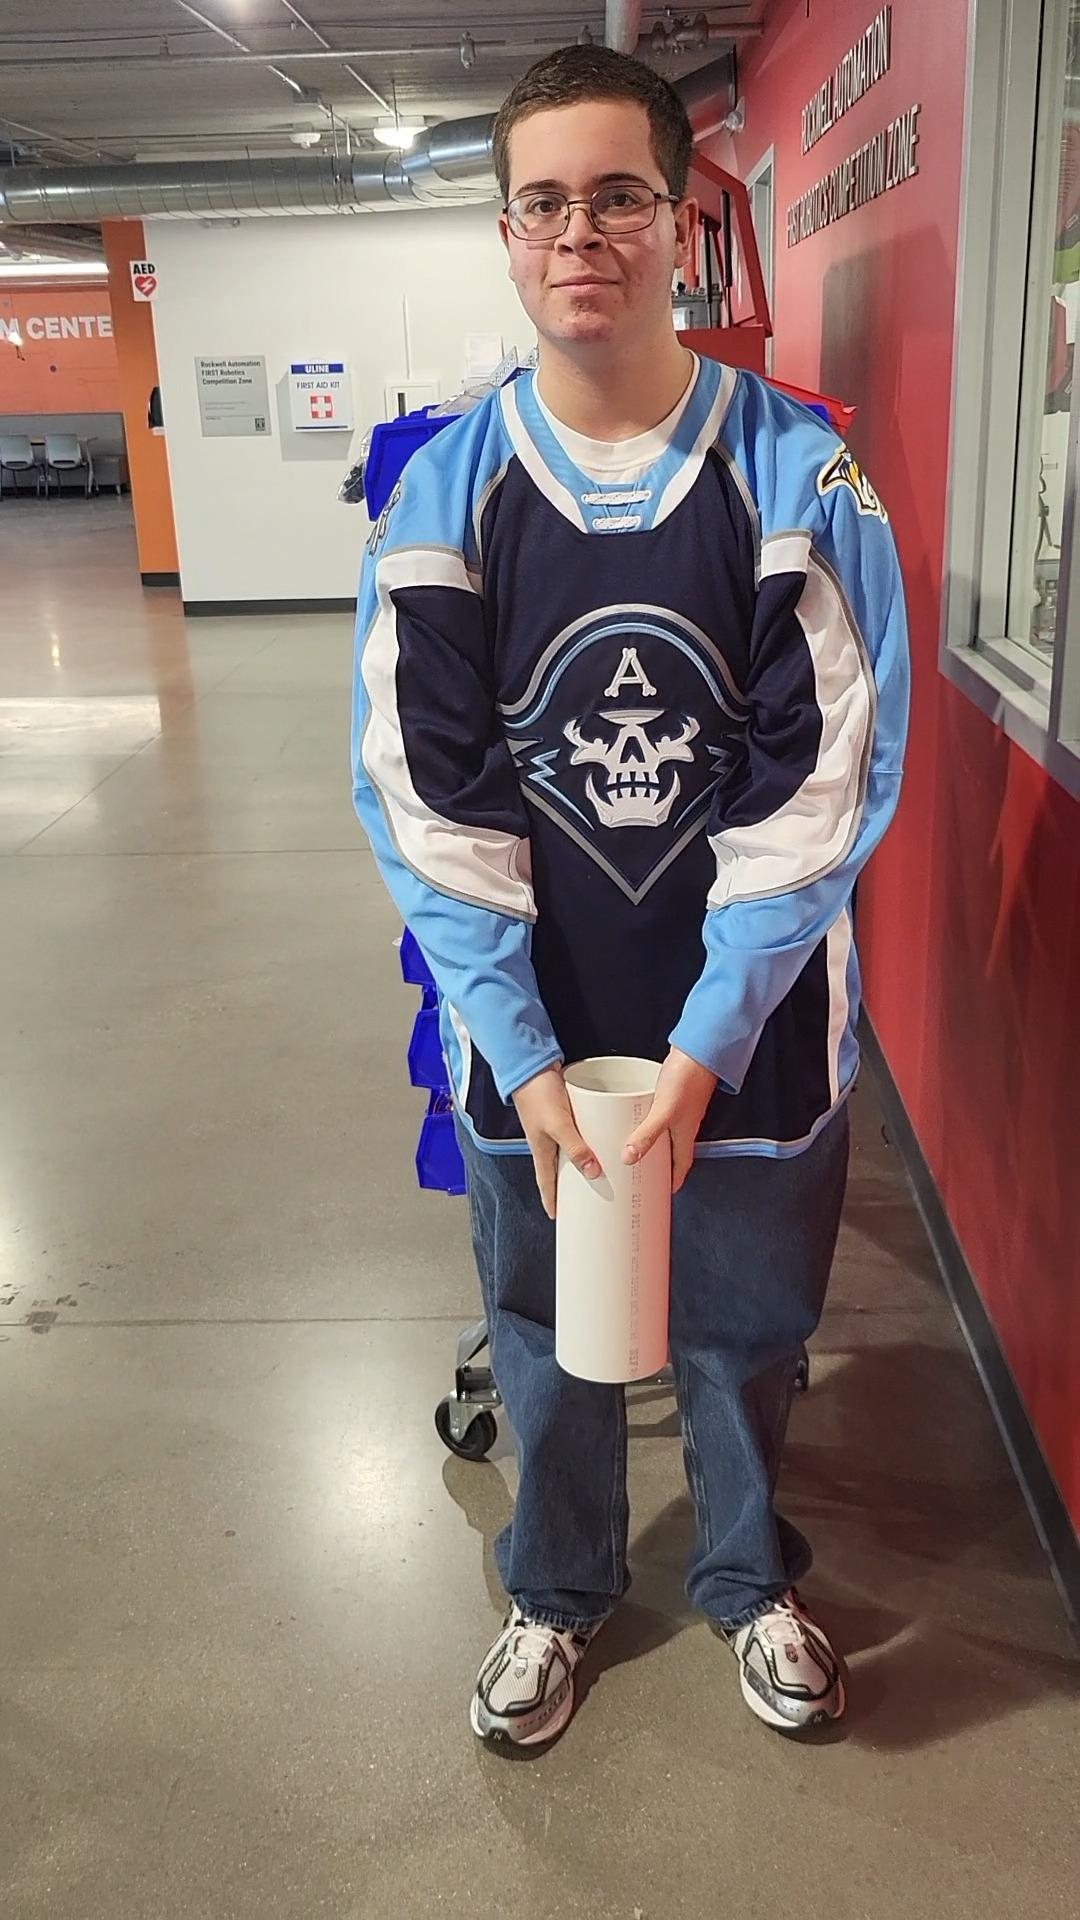coral: (550, 1047, 680, 1387)
